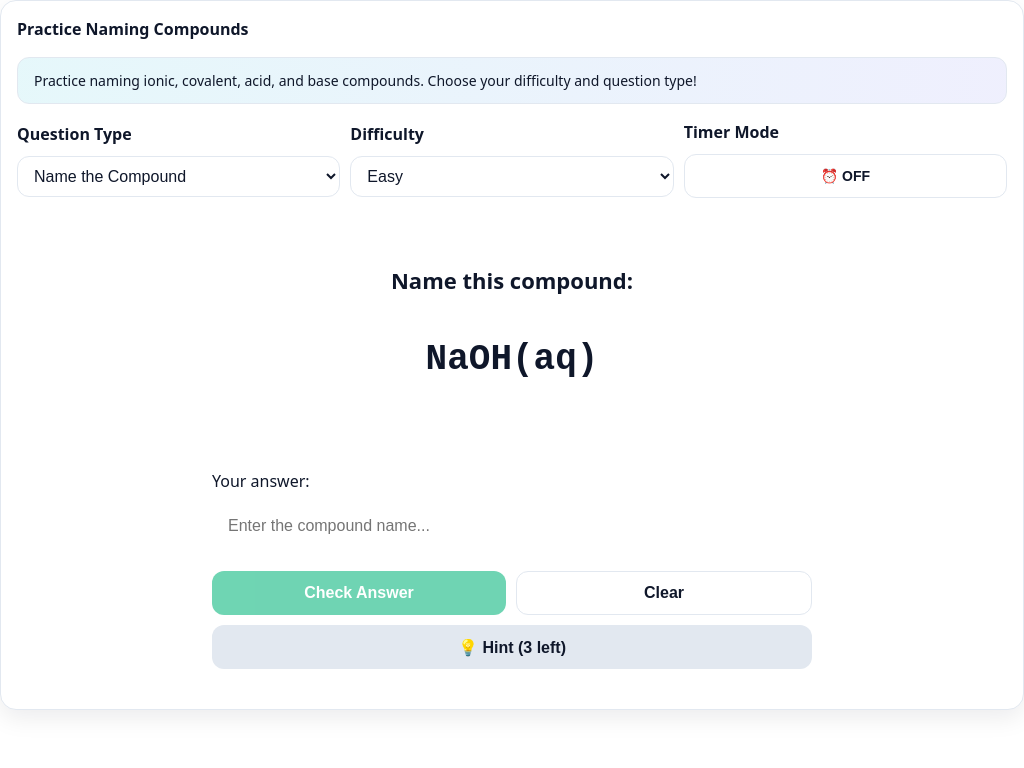
it: Practice Component › shows check answer button when answer is entered
The image size is (1024, 768).
Expected: the heading "Name this compound:" is shown, [391,265,633,295]
Type "sodium chloride" into the field with placeholder "Enter the compound name..." at (512,526), box [212,501,812,551]
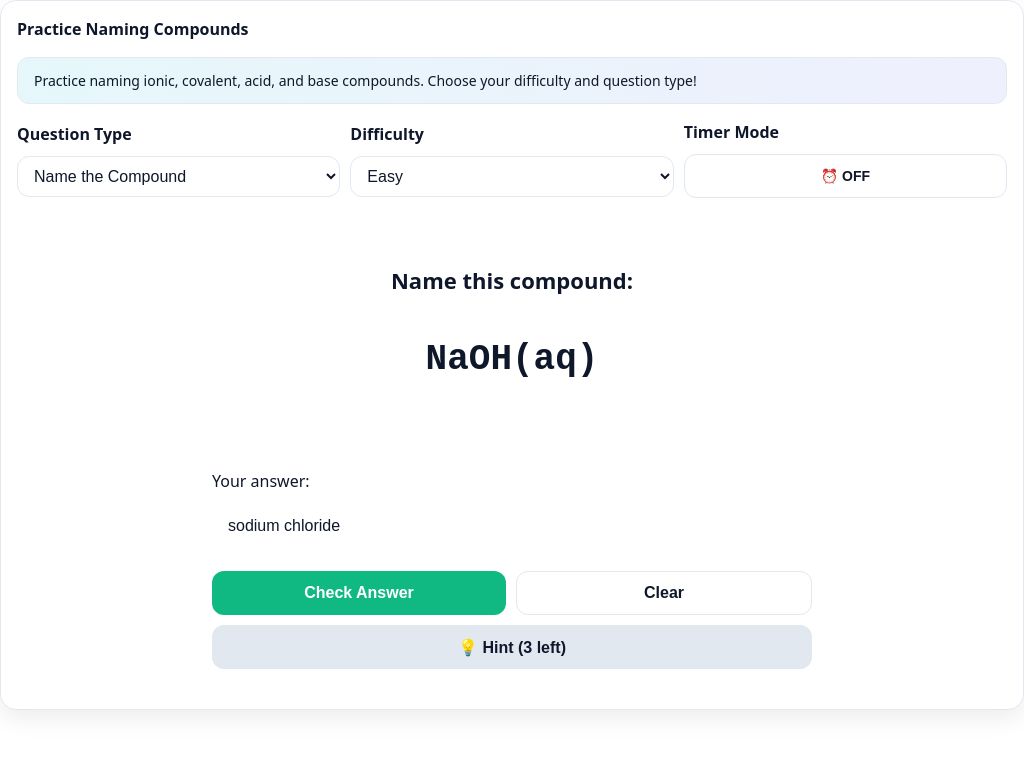
Expected: the button "Check Answer" is enabled, [212,571,506,615]
